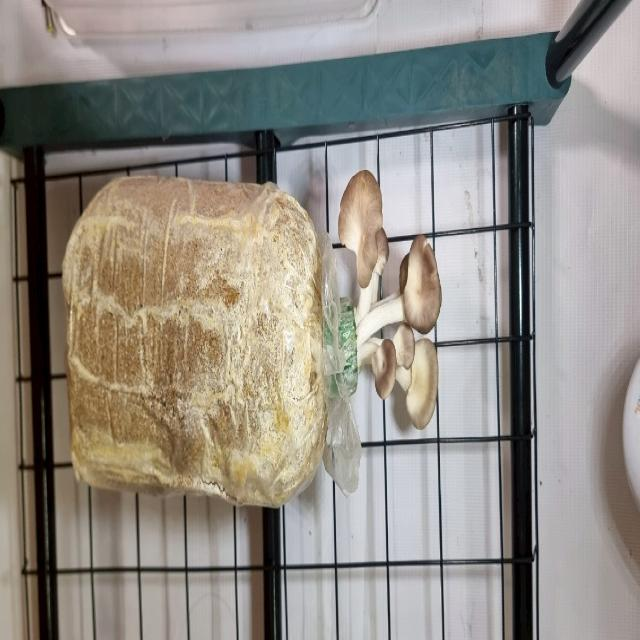normal: (341, 164, 445, 436)
